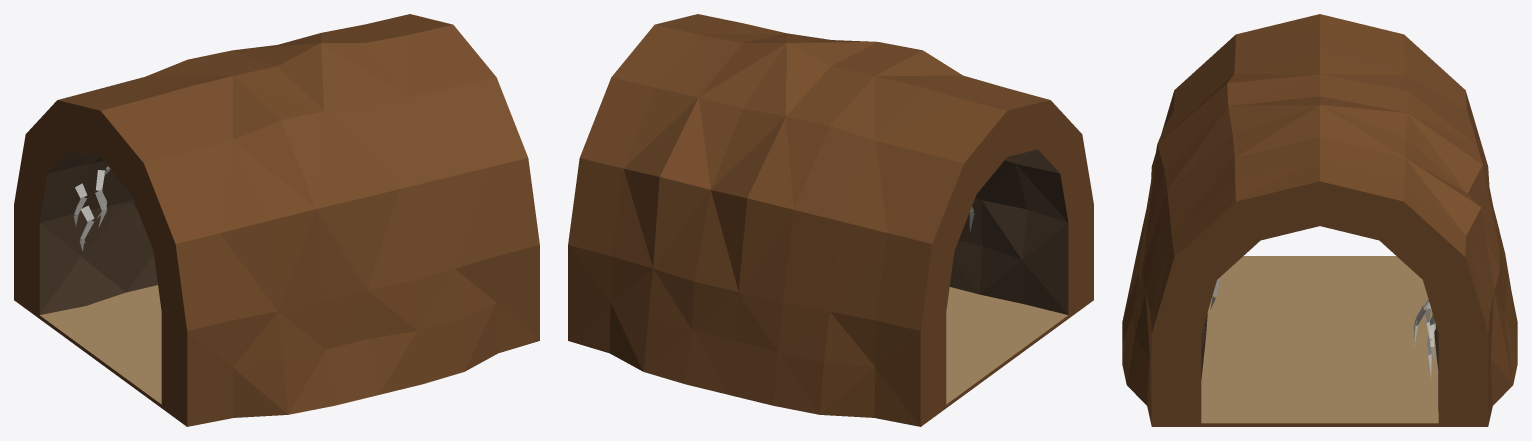
File: ant-tunnel-run-e4ce23.glb
The picture shows the model from 3 angles, left to right: view 1: azimuth 30°, elevation 25°; view 2: azimuth 150°, elevation 25°; view 3: azimuth 270°, elevation 25°; orthographic projection. The views are drawn at different scales.
Parts seen in each view (by area): view 1: tunnel; view 2: tunnel; view 3: tunnel.
Part boxes in pixels (<box>): tunnel: <box>14,14,539,426</box>; tunnel: <box>568,14,1093,426</box>; tunnel: <box>1122,14,1517,426</box>.
Size of the model in its own units: 4 by 2.89 by 4.
